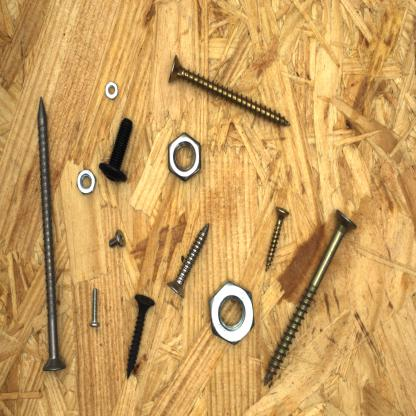screw: (262, 203, 359, 392), (166, 51, 291, 129), (35, 93, 67, 374), (166, 219, 211, 300), (124, 290, 156, 381), (97, 116, 135, 184), (263, 202, 291, 272)
